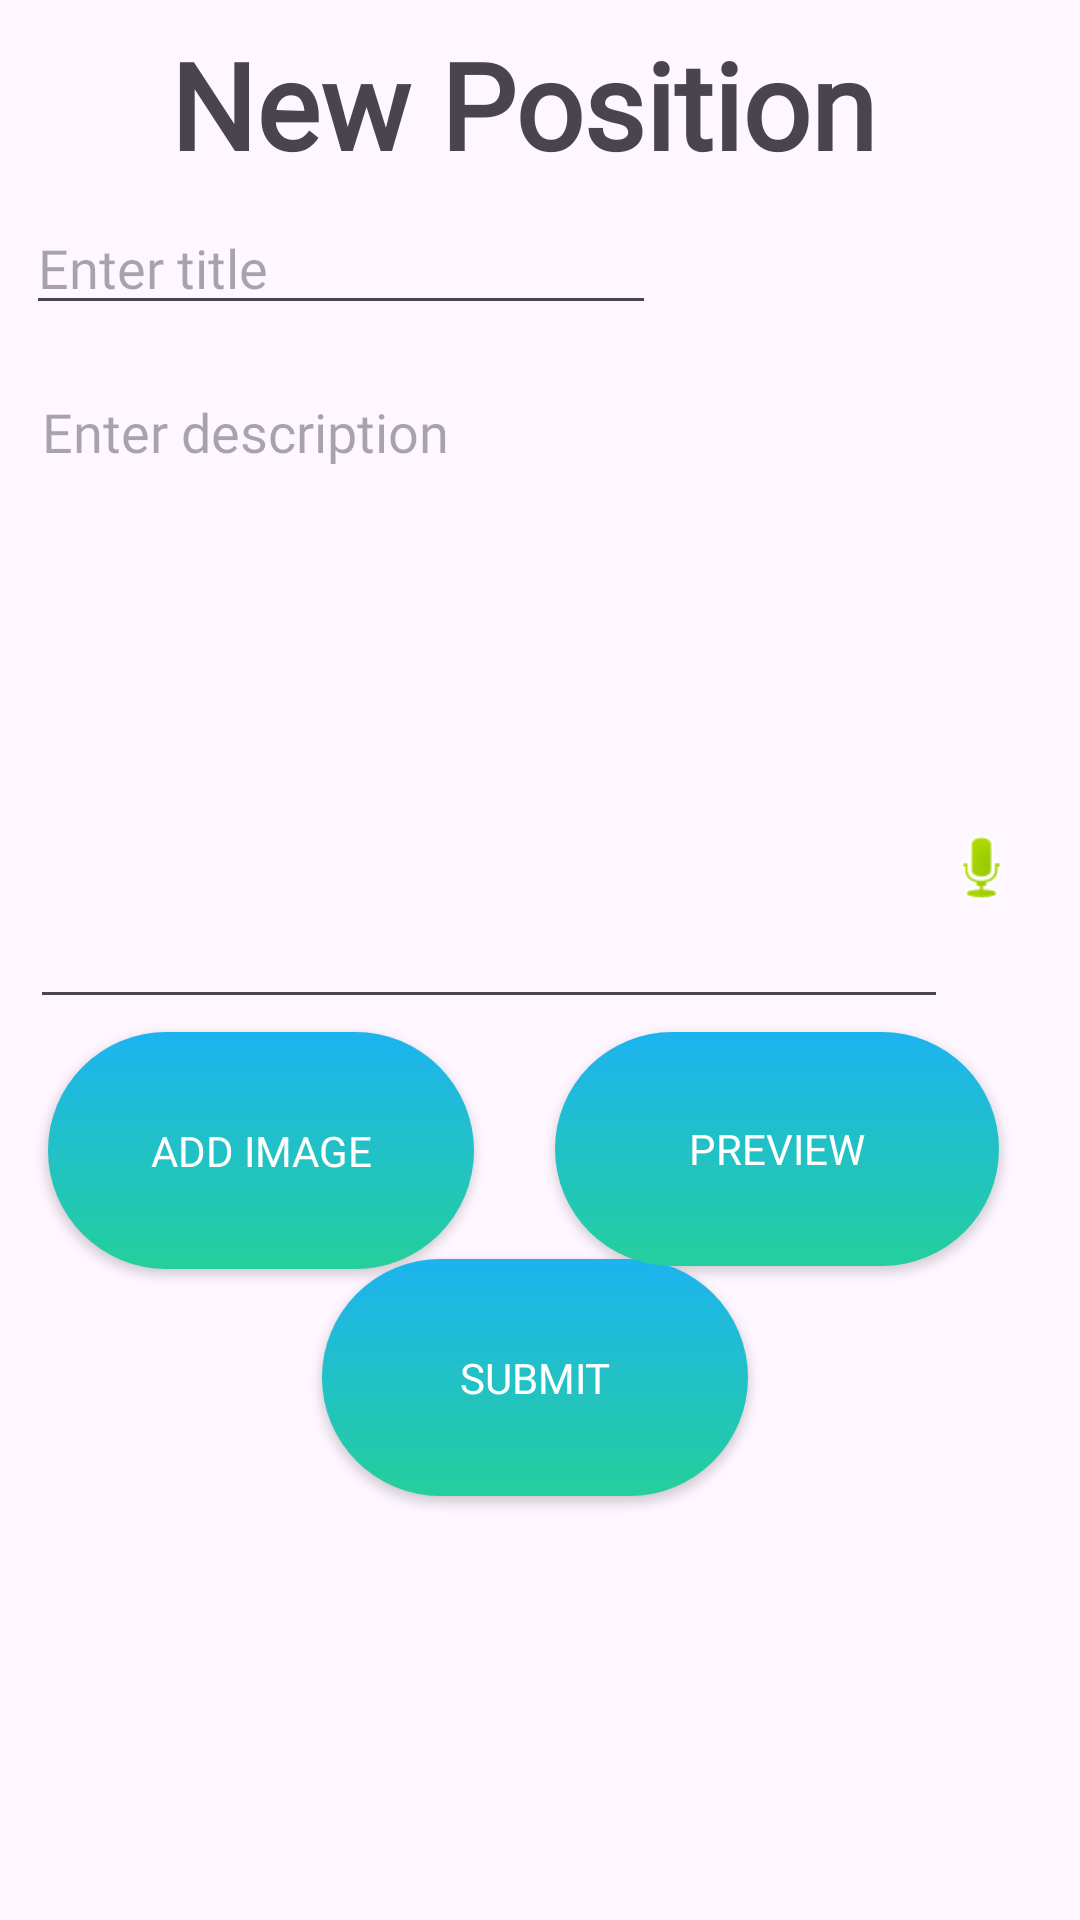

Named icons in this screenshot (1080×1920) and their centers, (x=x, y=y):
presence audio online: (x=981, y=867)
